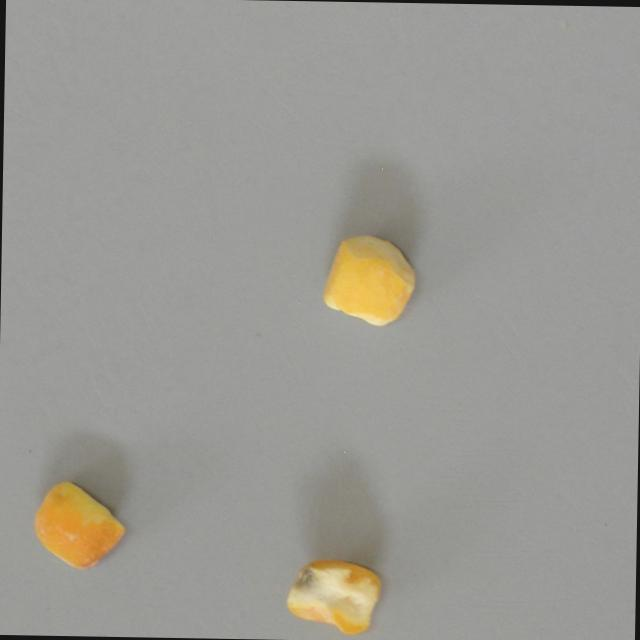dañado: (27, 468, 138, 584), (318, 221, 428, 336), (275, 531, 385, 640)
